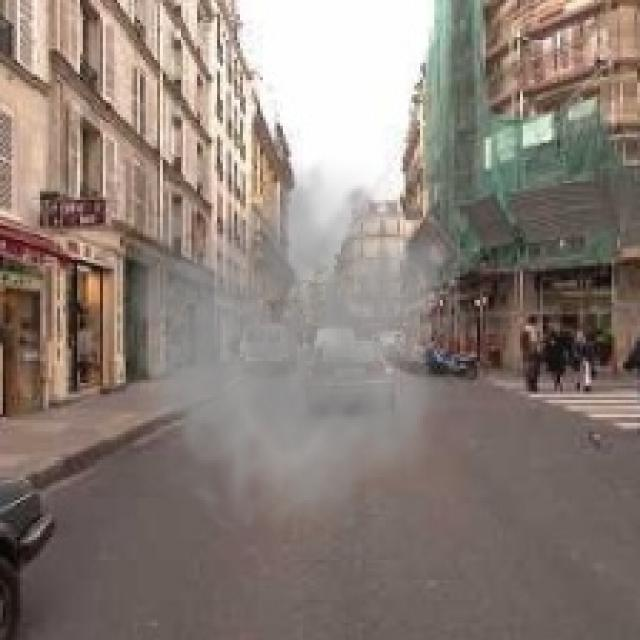smoke: (97, 154, 460, 543)
